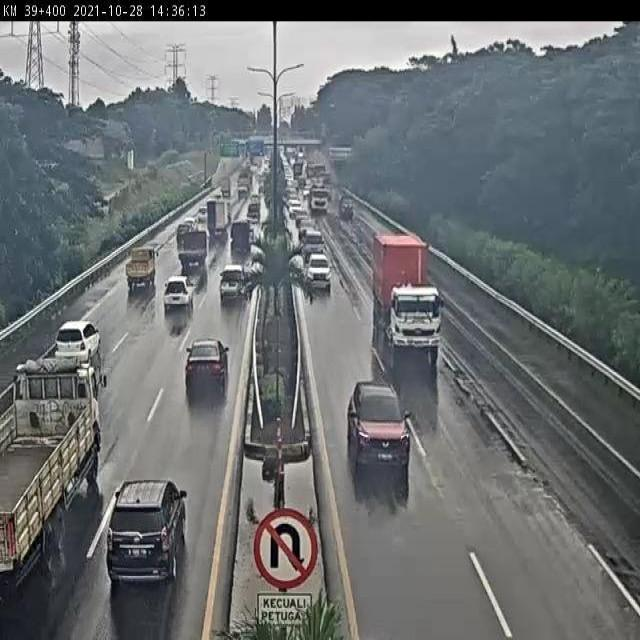big truck: (0, 354, 103, 586), (371, 236, 442, 367)
car: (105, 479, 186, 584), (346, 382, 412, 469), (181, 339, 232, 393), (52, 320, 102, 371), (218, 263, 249, 304), (306, 253, 335, 292), (164, 275, 194, 312), (225, 219, 253, 256), (303, 229, 326, 260), (181, 215, 199, 236), (173, 224, 192, 241)
small truck: (125, 247, 158, 293), (175, 227, 208, 268), (205, 199, 230, 240)
